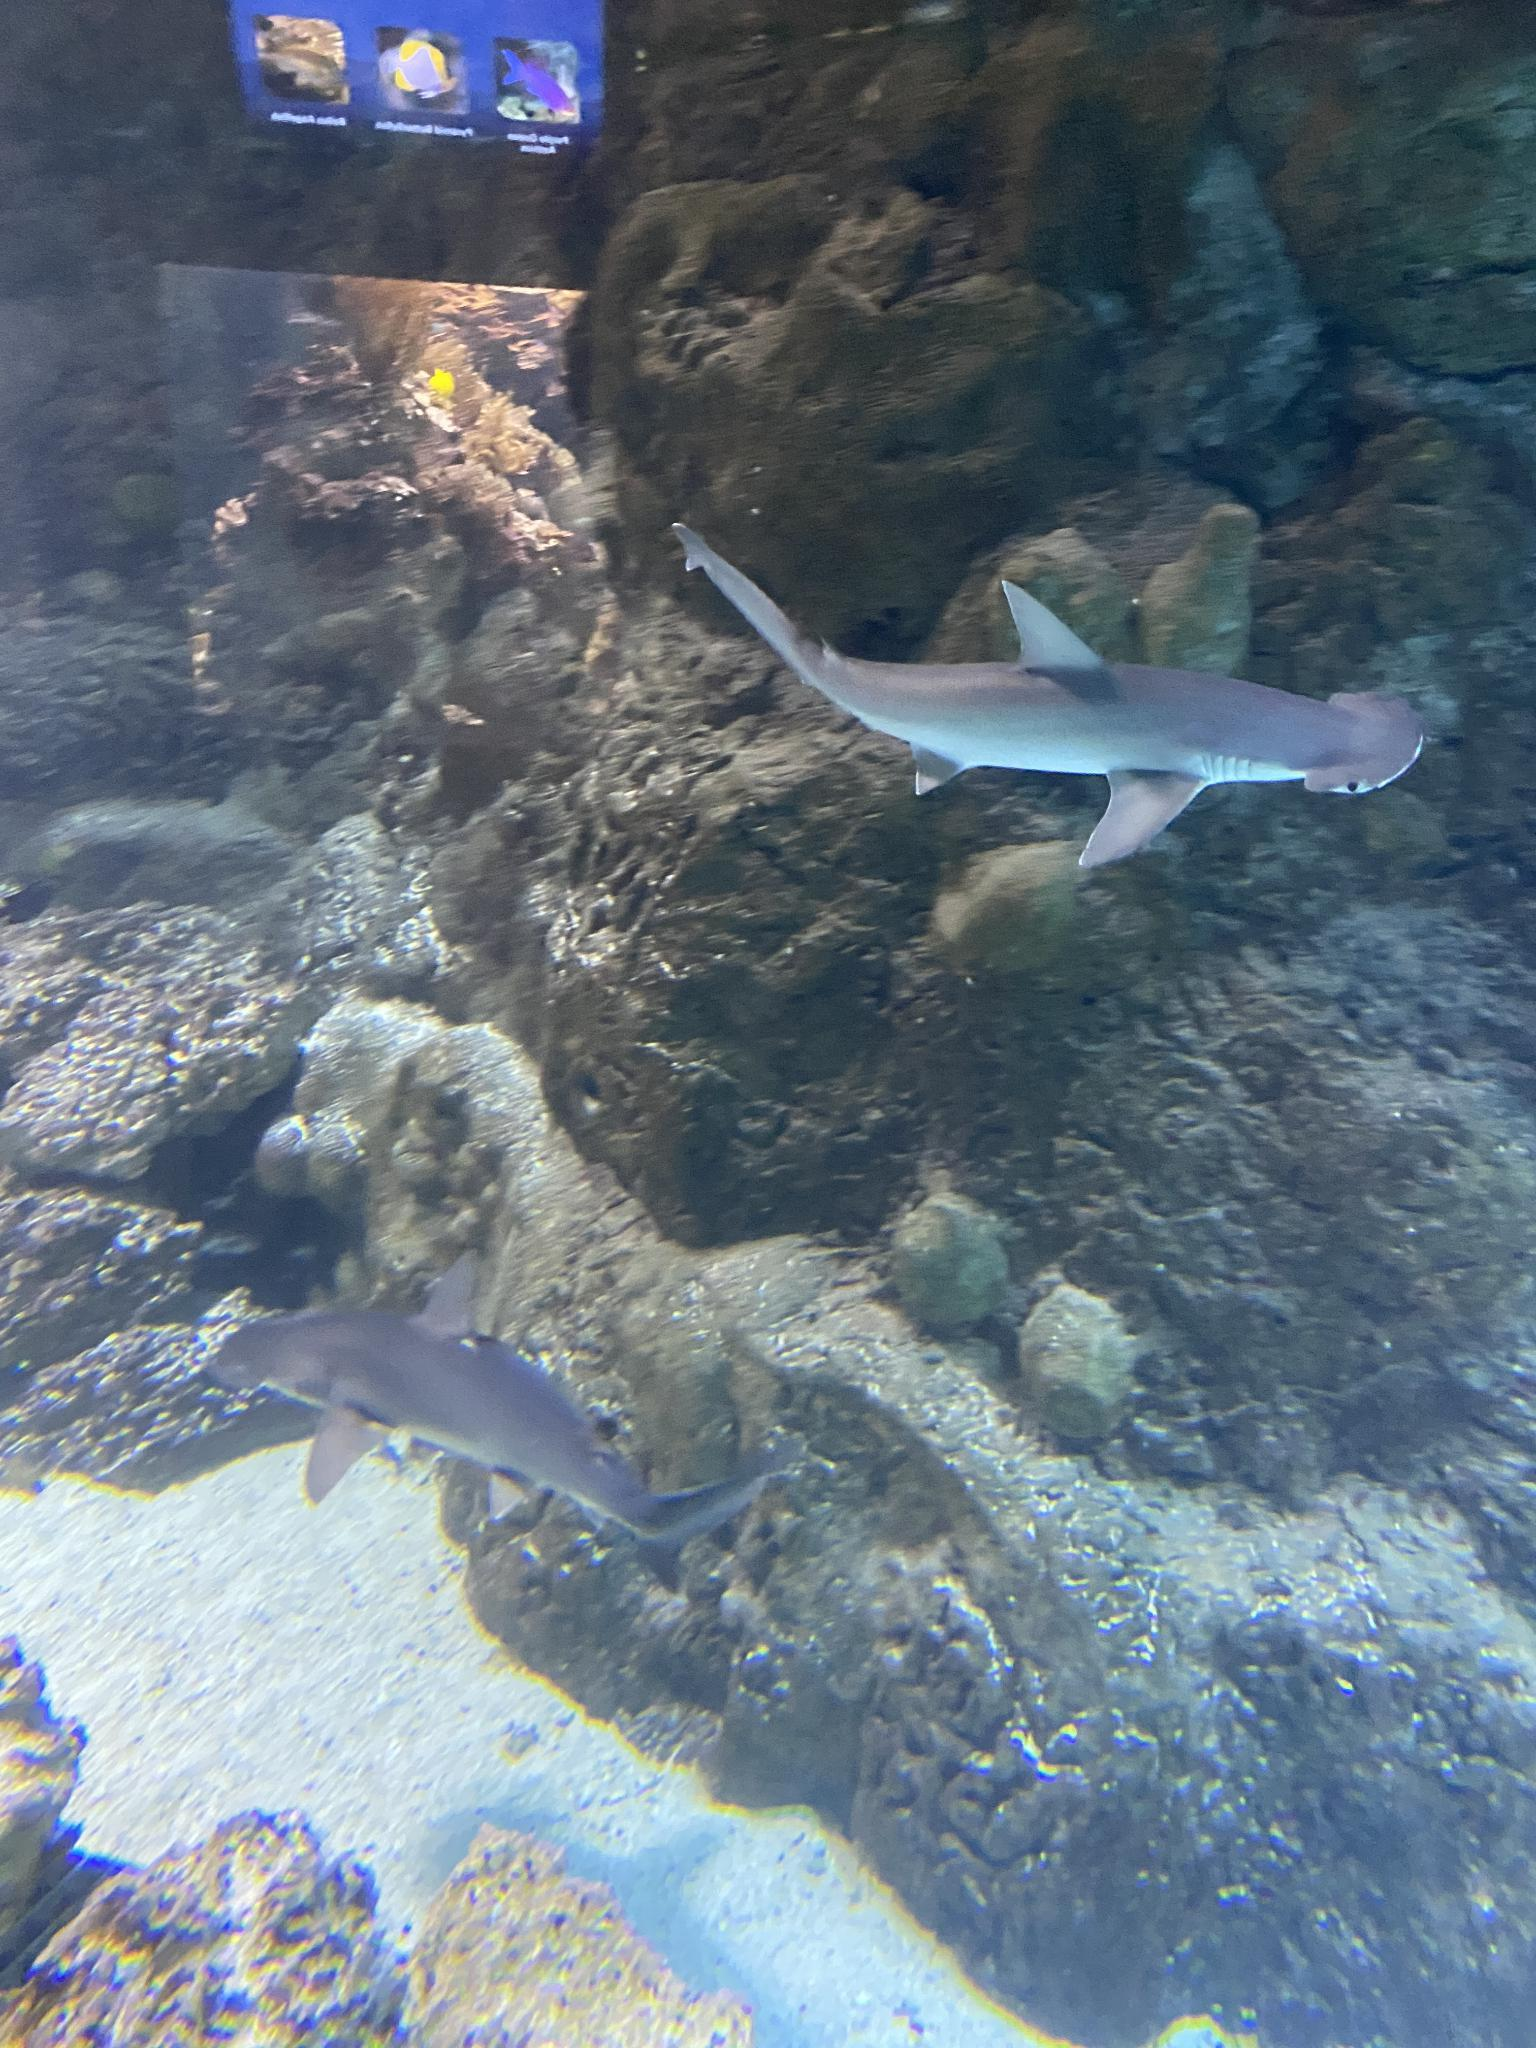shark: (674, 521, 1426, 869), (211, 1247, 807, 1555)
